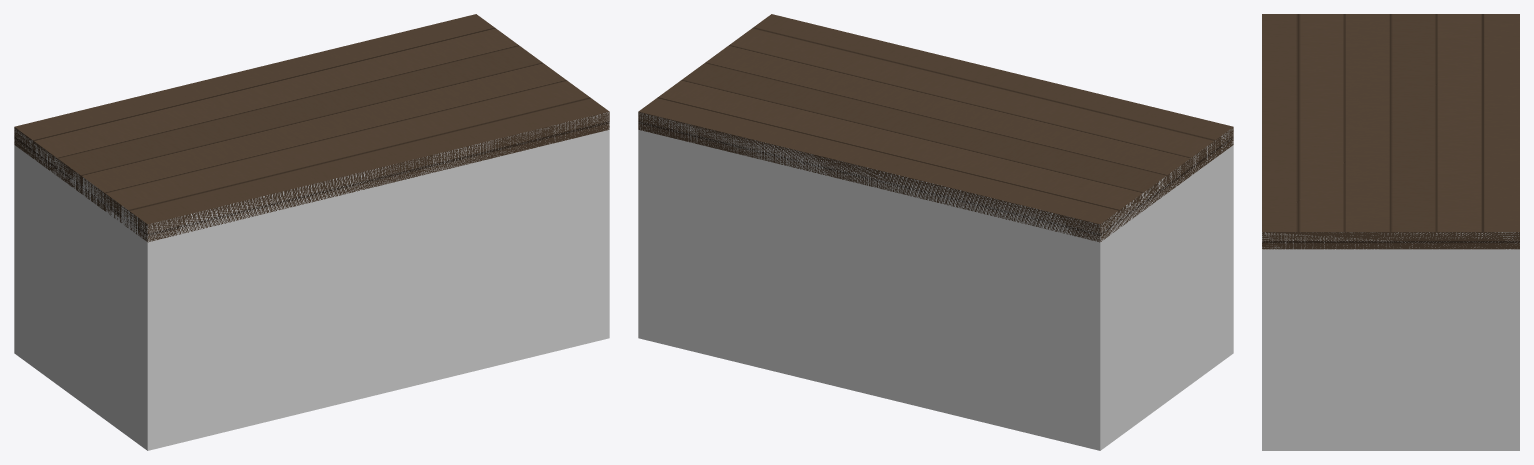
Rendered from table.glb.
3 renders of one model, left to right at view 1: azimuth 30°, elevation 25°; view 2: azimuth 150°, elevation 25°; view 3: azimuth 270°, elevation 25°, orthographic. The views are drawn at different scales.
Parts seen in each view (by area): view 1: COL_HULL_table, table; view 2: COL_HULL_table, table; view 3: table, COL_HULL_table.
Part boxes in pixels (bbox=[...]): COL_HULL_table: bbox=[14, 112, 609, 450]; table: bbox=[14, 14, 609, 242]; COL_HULL_table: bbox=[638, 112, 1233, 450]; table: bbox=[638, 14, 1233, 242]; table: bbox=[1262, 14, 1519, 249]; COL_HULL_table: bbox=[1262, 232, 1519, 450].
Size of the model in its own units: 1.6 by 0.75 by 0.8.
2 materials, 2 textured.
